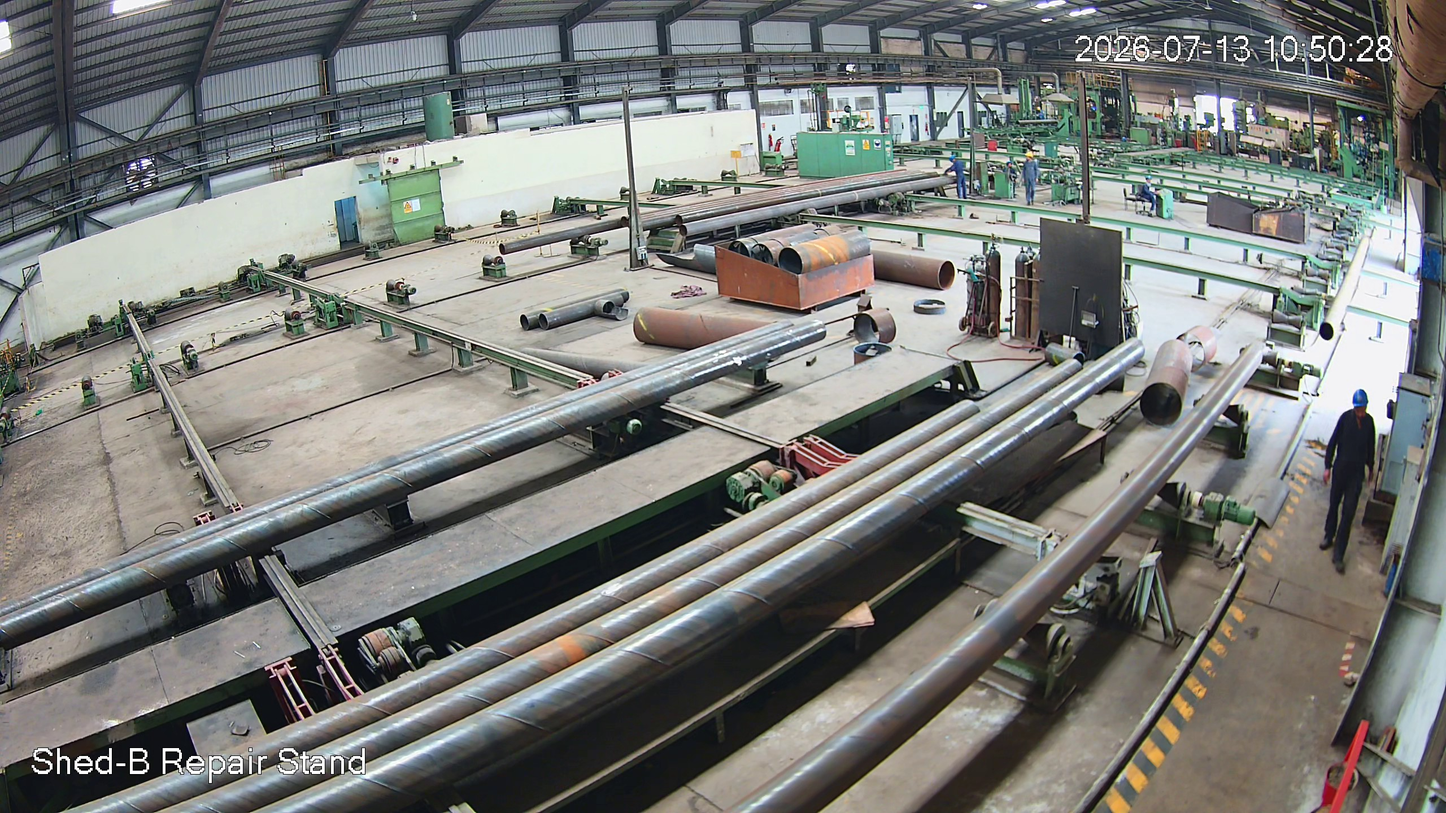Helmet: (1346, 387, 1380, 426)
Person: (1319, 390, 1380, 572)
